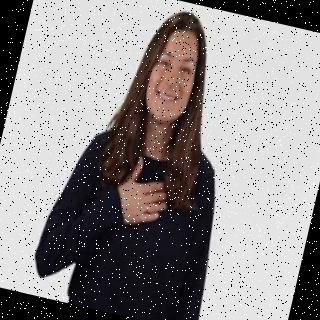Please: (104, 151, 180, 234)
